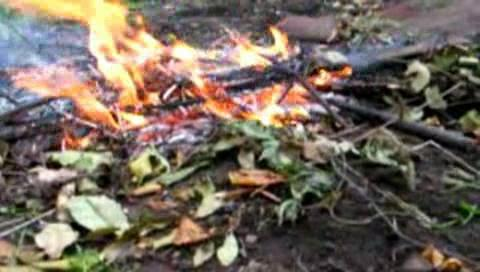fire: (32, 0, 342, 128)
